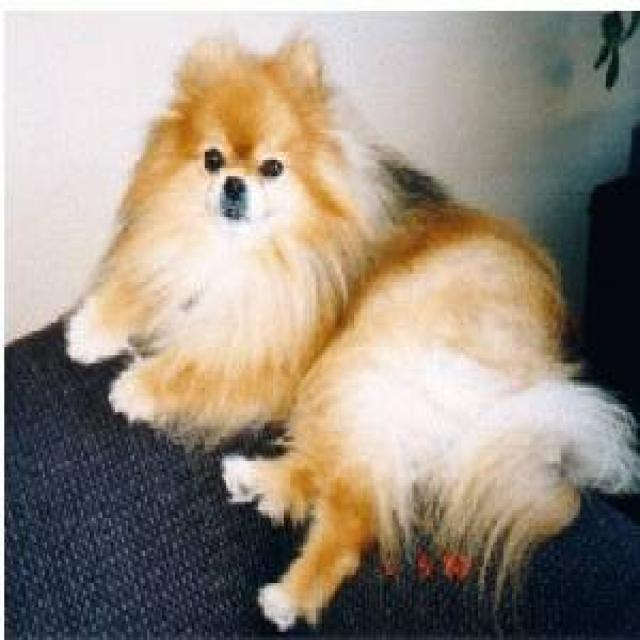dog-pomeranian: (53, 33, 621, 635)
